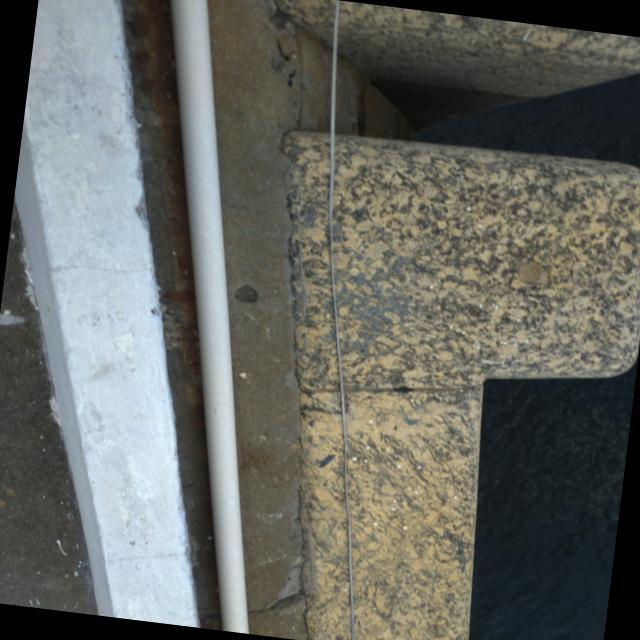gas: (171, 0, 249, 634)
